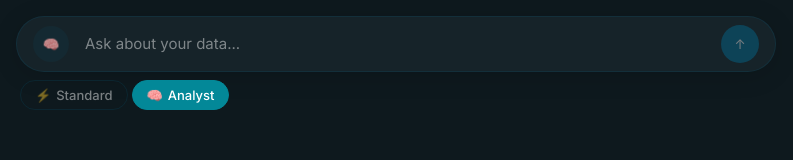
Test: QueryBar › Submit Functionality › enables send button when query has content
Type "Test" into the text box with placeholder "Ask about your data...". click: (395, 44)
box: [77,25,713,63]
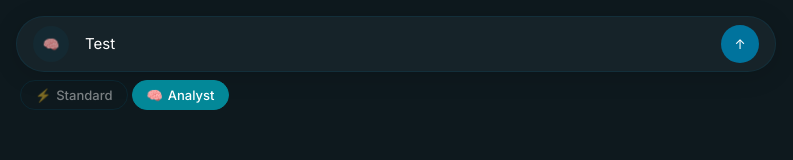
Expected: the button with class "send" is enabled, [721,25,759,63]
